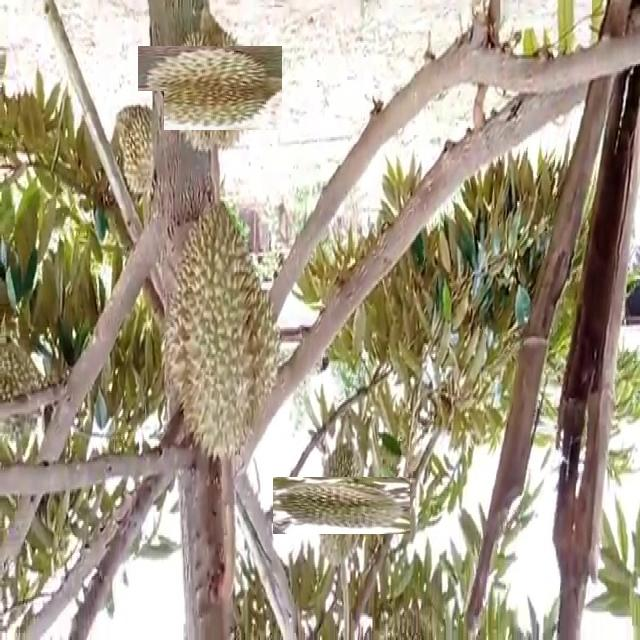durian: (160, 198, 285, 464), (153, 31, 268, 145), (293, 456, 390, 554), (106, 91, 164, 199)
